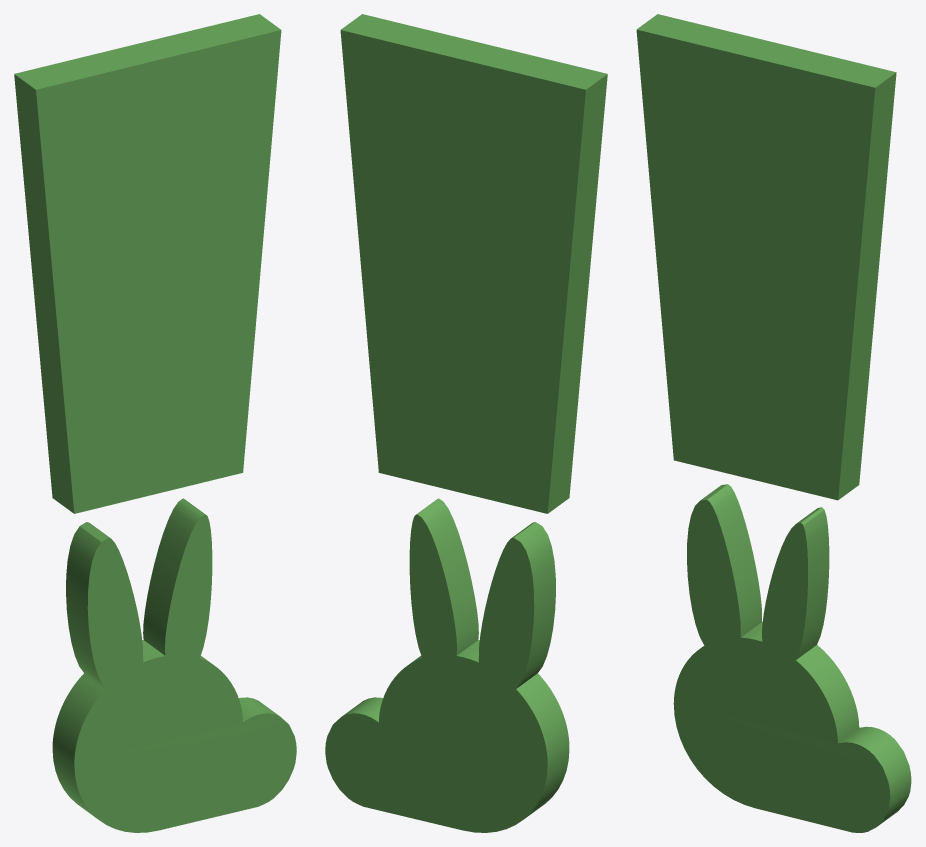
The model's file is point.glb.
The picture shows the model from 3 angles, left to right: view 1: azimuth 30°, elevation 25°; view 2: azimuth 150°, elevation 25°; view 3: azimuth 330°, elevation 25°; orthographic projection. The views are drawn at different scales.
Parts seen in each view (by area): view 1: exclamation, head; view 2: exclamation, head; view 3: exclamation, head.
Boxes of the visible parts, box(x1,y1,x2,y2) form: exclamation: box(14, 14, 281, 513); head: box(52, 498, 296, 832); exclamation: box(340, 14, 607, 513); head: box(325, 498, 569, 832); exclamation: box(636, 14, 896, 500); head: box(673, 484, 911, 832).
Size of the model in its own units: 0.8636 by 2.44 by 0.1252.
